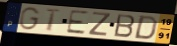B: (113, 13, 137, 39)
D: (132, 15, 159, 41)
E: (64, 9, 89, 36)
G: (18, 6, 42, 31)
T: (44, 8, 62, 33)
Z: (87, 11, 112, 37)
